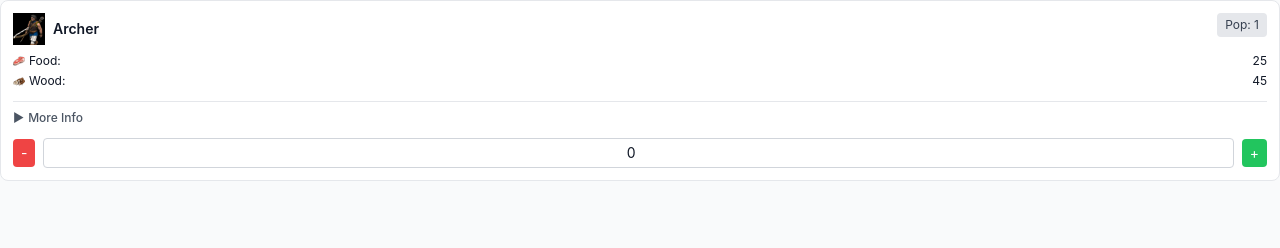
it: UnitCard › Edge cases › should handle only counters without weaknesses
Click the button "► More Info".
click(56, 118)  # box 13,110 -> 1267,126
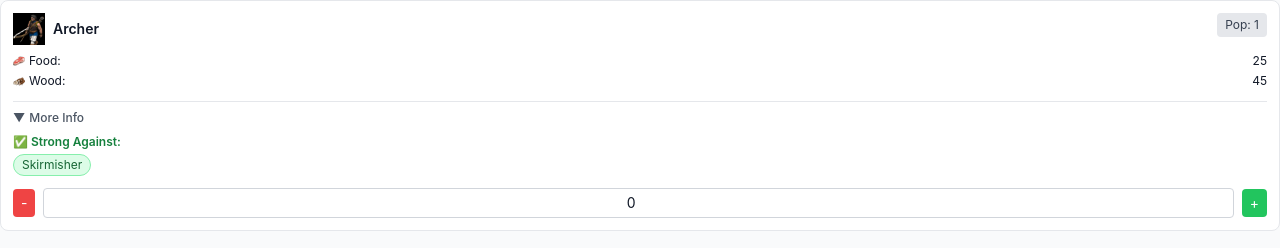
expect the text "✅ Strong Against:" is shown: met, box 13,134 -> 121,149
